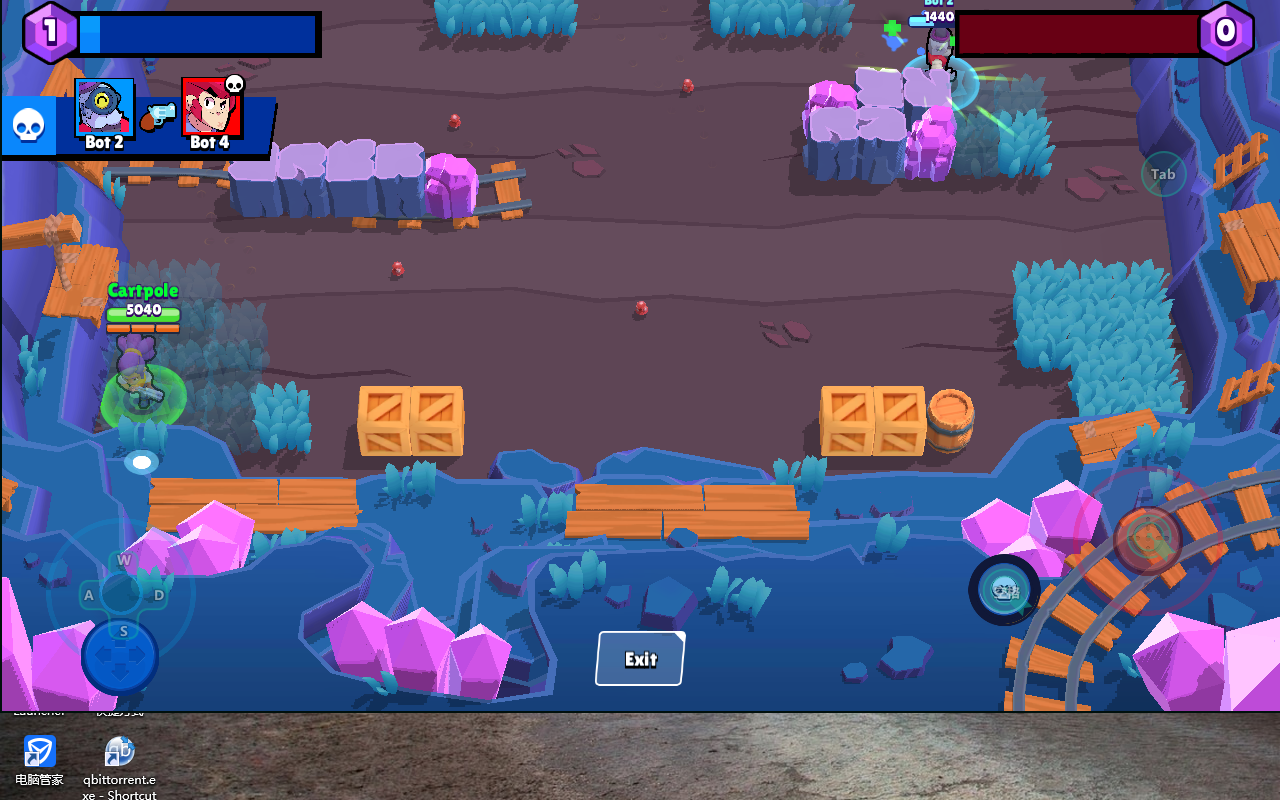current_player: (100, 369, 186, 428)
